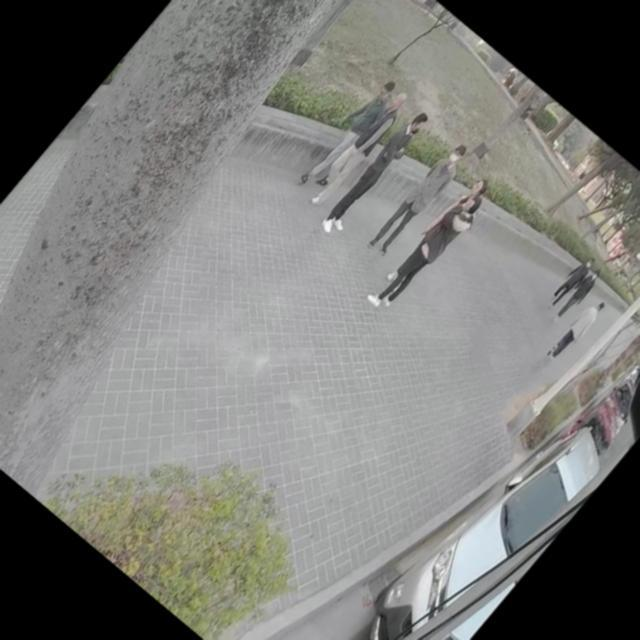person: (355, 174, 494, 328), (378, 166, 498, 300), (300, 80, 419, 214), (290, 64, 408, 196), (320, 106, 432, 235), (367, 138, 472, 259), (542, 291, 613, 369), (549, 264, 606, 328), (546, 246, 601, 308)
